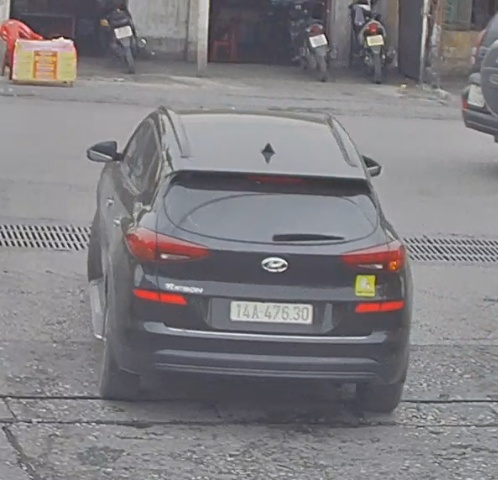vehicle plate: (229, 297, 318, 322)
